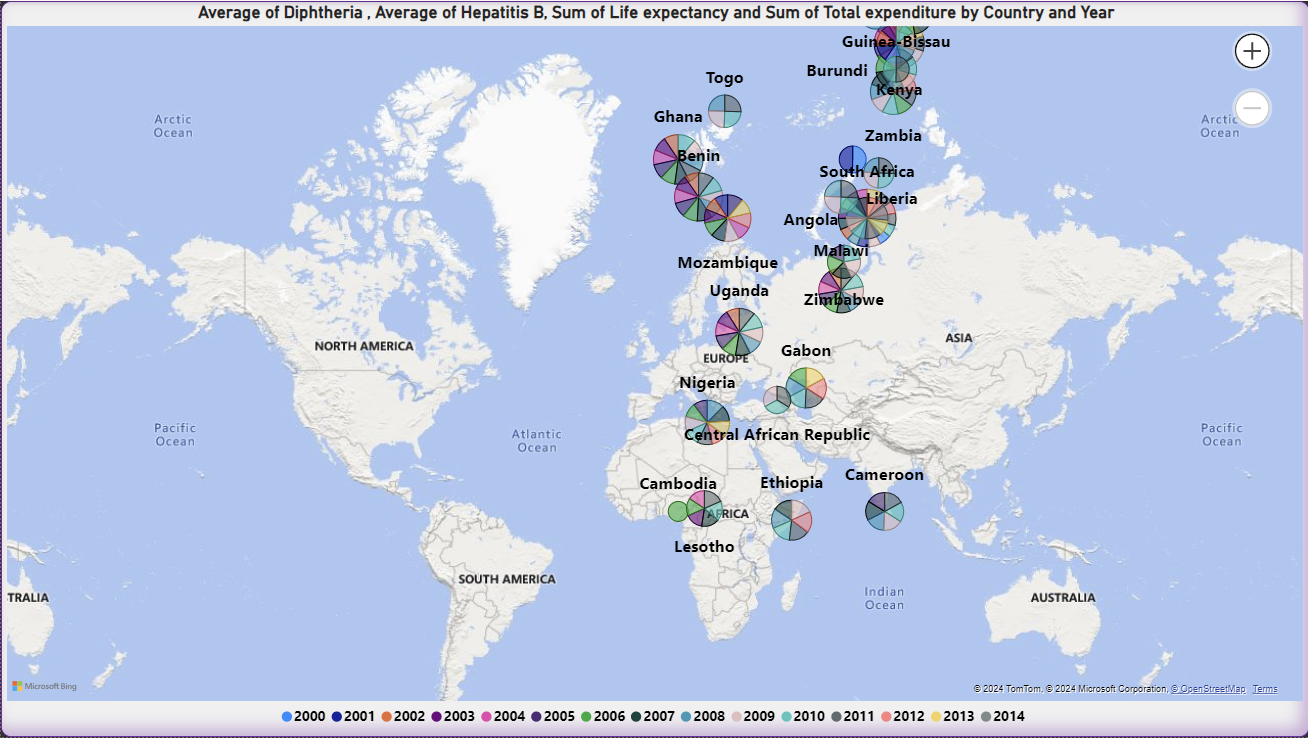

What the dashboard file says about the page in this screenshot:
{"tool":"powerbi","page":{"name":"Page 4","canvas":[1280,720],"ordinal":3},"visuals":[{"type":"map","fields":{"Category":["Life Expectancy Data_report.Country"],"Y":["Avg(Life Expectancy Data_report.Diphtheria )"],"X":["Avg(Life Expectancy Data_report.Hepatitis B)"],"Size":["Sum(Life Expectancy Data_report.Life expectancy )"],"Series":["Life Expectancy Data_report.Year"]},"box":[0,0,1280.3,720.2],"z":0}]}

Visuals, with their boxes in screenshot pixels (x1, y1, x2, y2), scaled from the page's 1280x720 canvas onto the 1308x738 screenshot:
map - Life Expectancy Data_report.Country x Avg(Life Expectancy Data_report.Diphtheria ): BBox(0, 0, 1307, 737)
